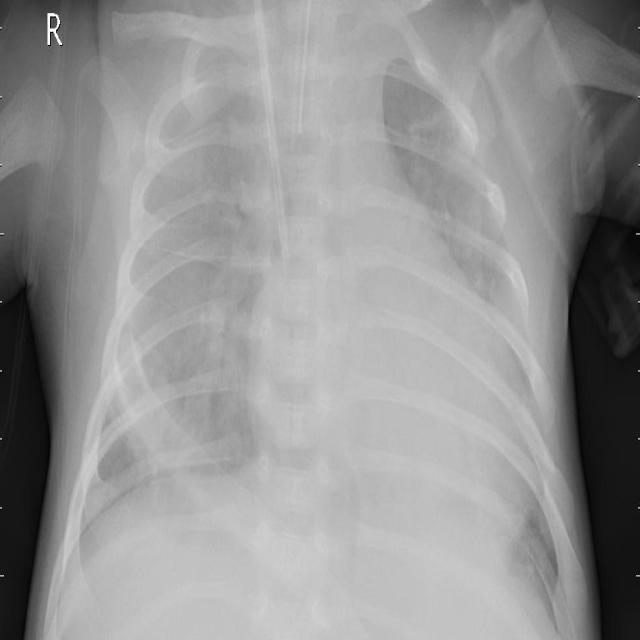high-pneumonia: (388, 16, 567, 624), (75, 27, 281, 545)
